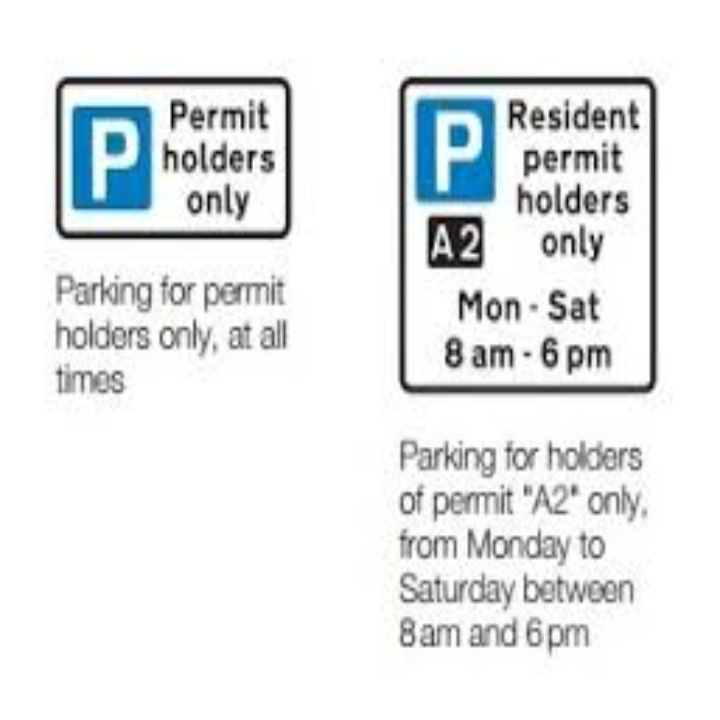parking: (85, 115, 144, 200), (431, 104, 484, 195)
